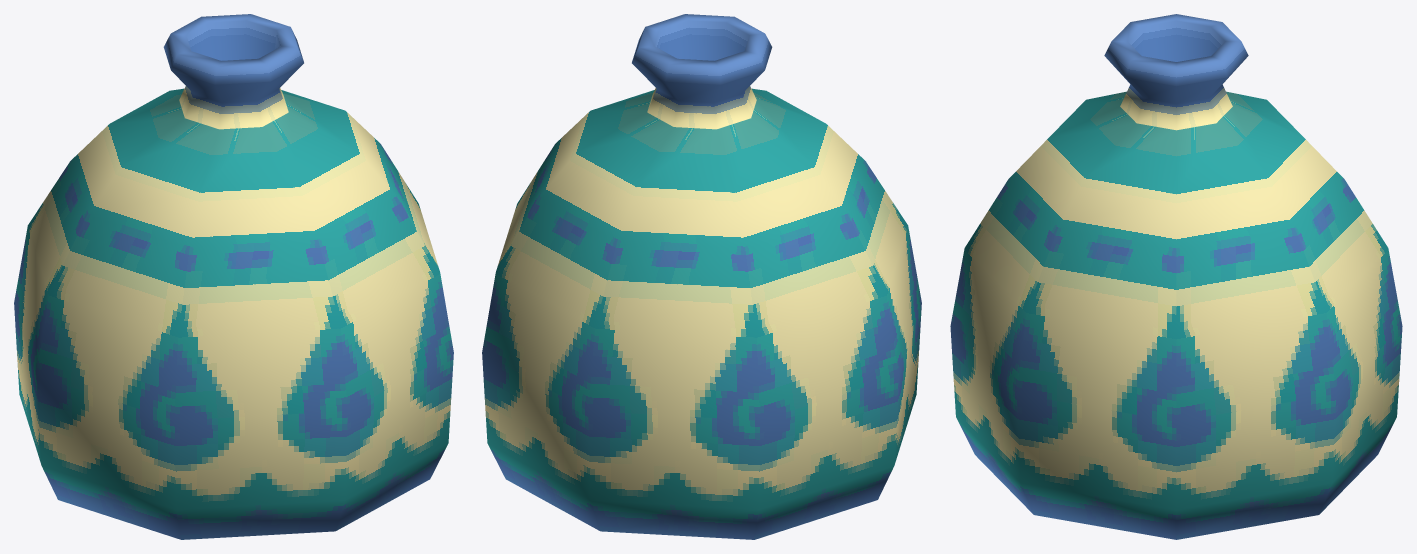
The model's file is pot_water.obj.
3 renders of one model, left to right at view 1: azimuth 30°, elevation 25°; view 2: azimuth 150°, elevation 25°; view 3: azimuth 270°, elevation 25°, orthographic.
Visible parts, largest first — view 1: pot_water; view 2: pot_water; view 3: pot_water.
Part boxes in pixels (x1,y1,x2,y2): pot_water: (14,14,453,539); pot_water: (482,14,921,539); pot_water: (950,14,1402,539).
Size of the model in its own units: 99.28 by 100 by 99.28.
